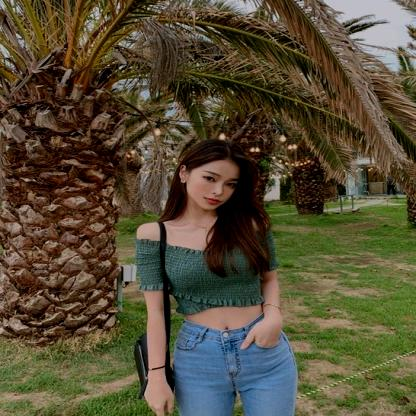jacket: (130, 218, 291, 314)
